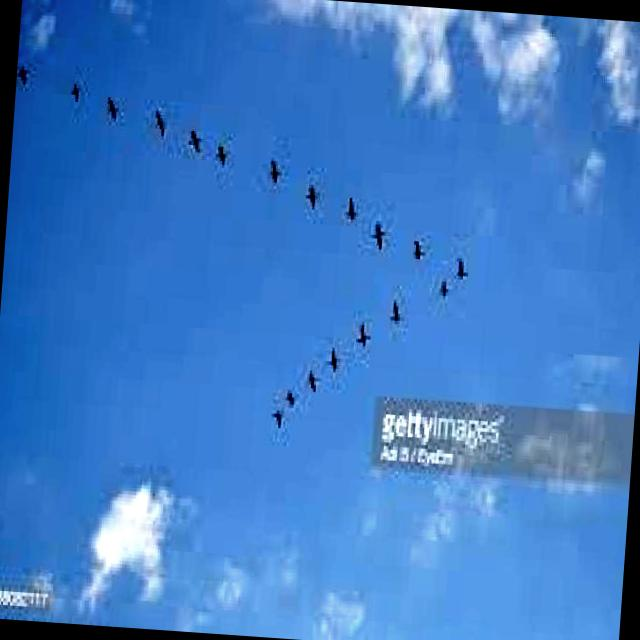bird: (14, 42, 51, 121), (96, 84, 138, 136), (256, 138, 294, 194), (67, 66, 103, 117), (381, 286, 413, 341), (316, 331, 346, 388), (212, 132, 248, 176), (344, 313, 375, 364), (447, 252, 478, 296), (179, 114, 210, 155), (142, 98, 176, 134), (300, 356, 324, 406), (407, 237, 439, 274), (274, 380, 300, 424), (296, 171, 322, 212), (340, 185, 364, 228), (262, 406, 294, 436), (367, 215, 390, 248), (437, 274, 455, 310)
